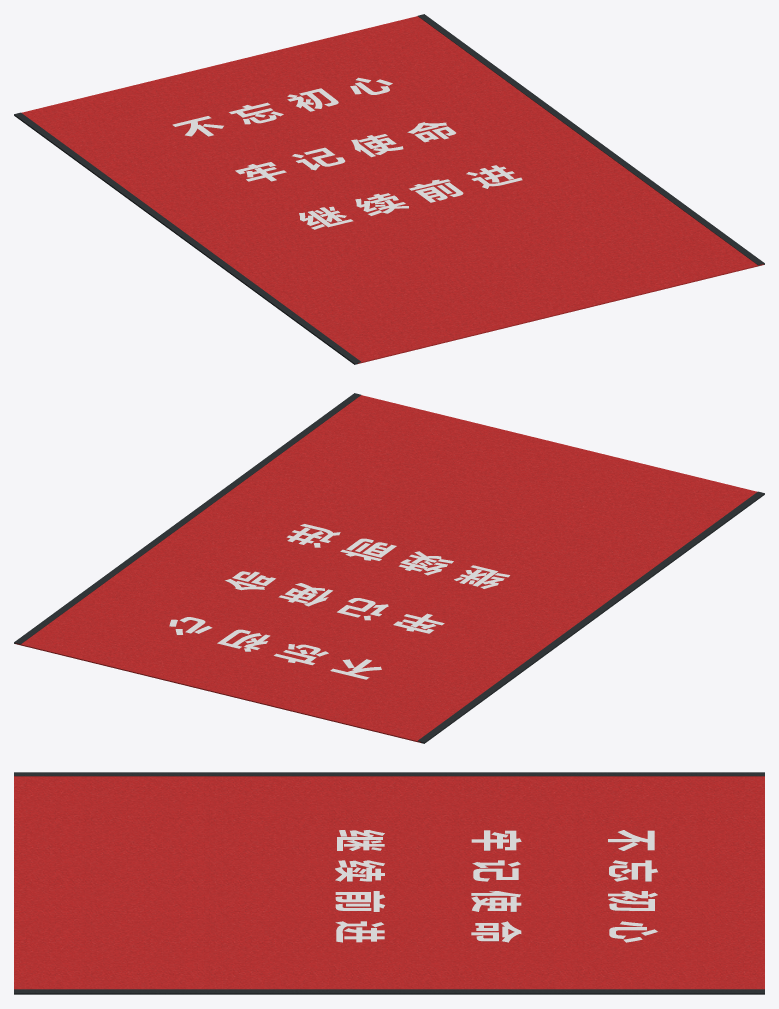
The model's file is carpet.fbx.
The picture shows the model from 3 angles, top to bottom: view 1: azimuth 30°, elevation 25°; view 2: azimuth 150°, elevation 25°; view 3: azimuth 270°, elevation 25°; orthographic projection. The views are drawn at different scales.
Visible parts, largest first — view 1: Carpet; view 2: Carpet; view 3: Carpet.
Part boxes in pixels (box(x1,y1,x2,y2)): Carpet: box(14, 14, 764, 364); Carpet: box(14, 393, 764, 743); Carpet: box(14, 772, 764, 994).
Size of the model in its own units: 2.97 by 0.00997 by 4.27.
